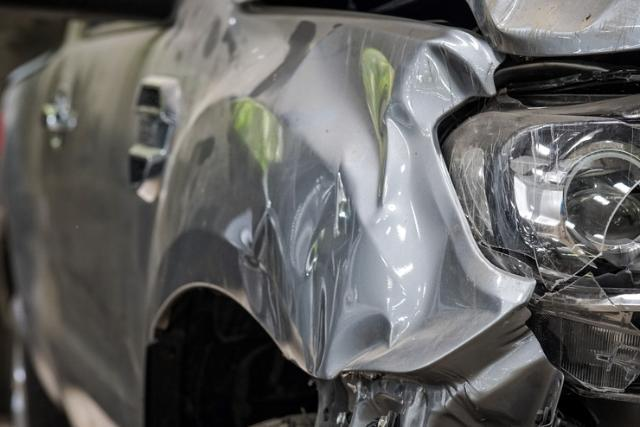Bonnet: (467, 4, 640, 48)
Bumper: (341, 375, 640, 427)
Fender: (201, 26, 479, 367)
Light: (475, 110, 640, 279)
